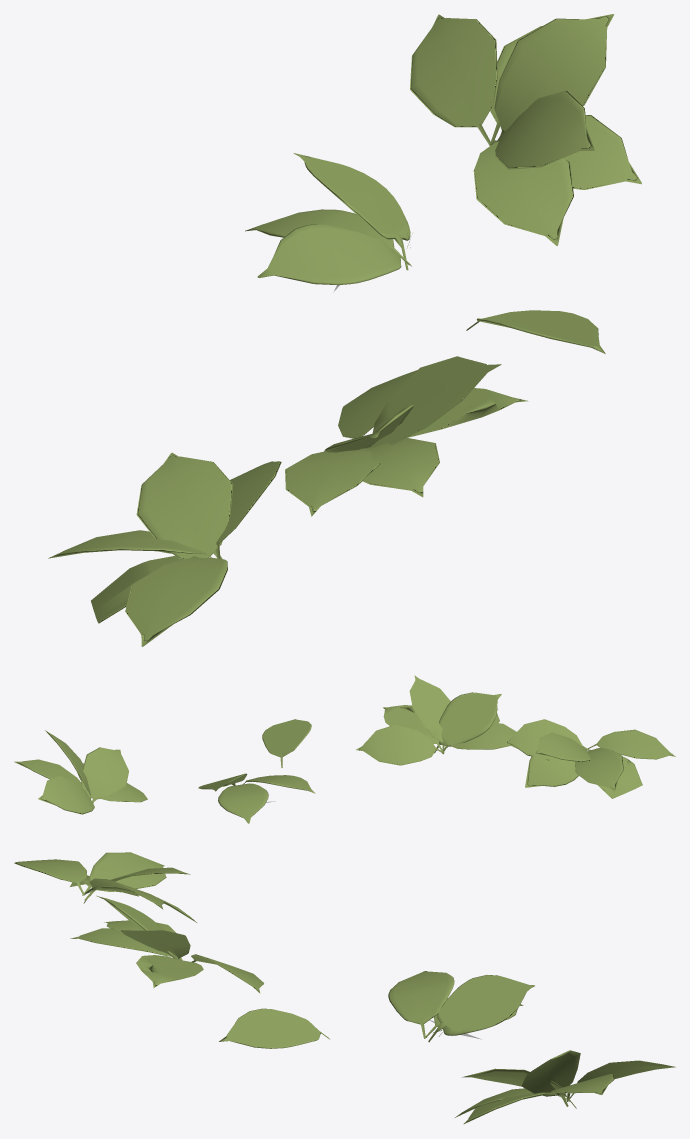
Rendered from reduced cluster.fbx.
The picture shows the model from 3 angles, top to bottom: view 1: azimuth 30°, elevation 25°; view 2: azimuth 150°, elevation 25°; view 3: azimuth 270°, elevation 25°; orthographic projection. The views are drawn at different scales.
Parts seen in each view (by area): view 1: pCube16, polySurface24, polySurface18, polySurface28, polySurface35, polySurface19, polySurface33, polySurface34, polySurface38, polySurface36, polySurface20, polySurface27 (+4 smaller); view 2: pCube16, polySurface32, polySurface36, polySurface28, polySurface35, polySurface27, polySurface26, polySurface20, polySurface38, polySurface25, polySurface24, polySurface33 (+4 smaller); view 3: pCube16, polySurface19, polySurface38, polySurface18, polySurface27, polySurface37, polySurface35, polySurface28, polySurface34, polySurface32, polySurface36, polySurface25.
Part boxes in pixels (x1,y1,x2,y2): pCube16: [410, 14, 641, 245]; polySurface24: [136, 452, 233, 559]; polySurface18: [257, 224, 411, 285]; polySurface28: [125, 558, 227, 646]; polySurface35: [371, 356, 501, 446]; polySurface19: [293, 153, 410, 270]; polySurface33: [285, 448, 380, 516]; polySurface34: [362, 438, 439, 497]; polySurface38: [466, 310, 605, 353]; polySurface36: [338, 370, 417, 438]; polySurface20: [245, 209, 409, 265]; polySurface27: [48, 530, 212, 558]; pCube16: [14, 730, 147, 814]; polySurface32: [434, 692, 501, 753]; polySurface36: [356, 724, 443, 765]; polySurface28: [587, 729, 675, 759]; polySurface35: [409, 675, 450, 754]; polySurface27: [575, 748, 623, 791]; polySurface26: [525, 754, 578, 787]; polySurface20: [218, 783, 268, 823]; polySurface38: [262, 719, 311, 767]; polySurface25: [503, 719, 588, 760]; polySurface24: [533, 732, 590, 762]; polySurface33: [442, 722, 516, 751]; pCube16: [455, 1050, 675, 1124]; polySurface19: [428, 975, 534, 1042]; polySurface38: [219, 1008, 329, 1048]; polySurface18: [388, 971, 454, 1038]; polySurface27: [84, 852, 166, 900]; polySurface37: [136, 955, 203, 987]; polySurface35: [120, 930, 190, 959]; polySurface28: [14, 859, 86, 895]; polySurface34: [70, 928, 170, 956]; polySurface32: [96, 895, 179, 959]; polySurface36: [191, 954, 263, 993]; polySurface25: [84, 878, 164, 909].
Bounding box in the file's own units: 28.39 × 4.89 × 27.26.
